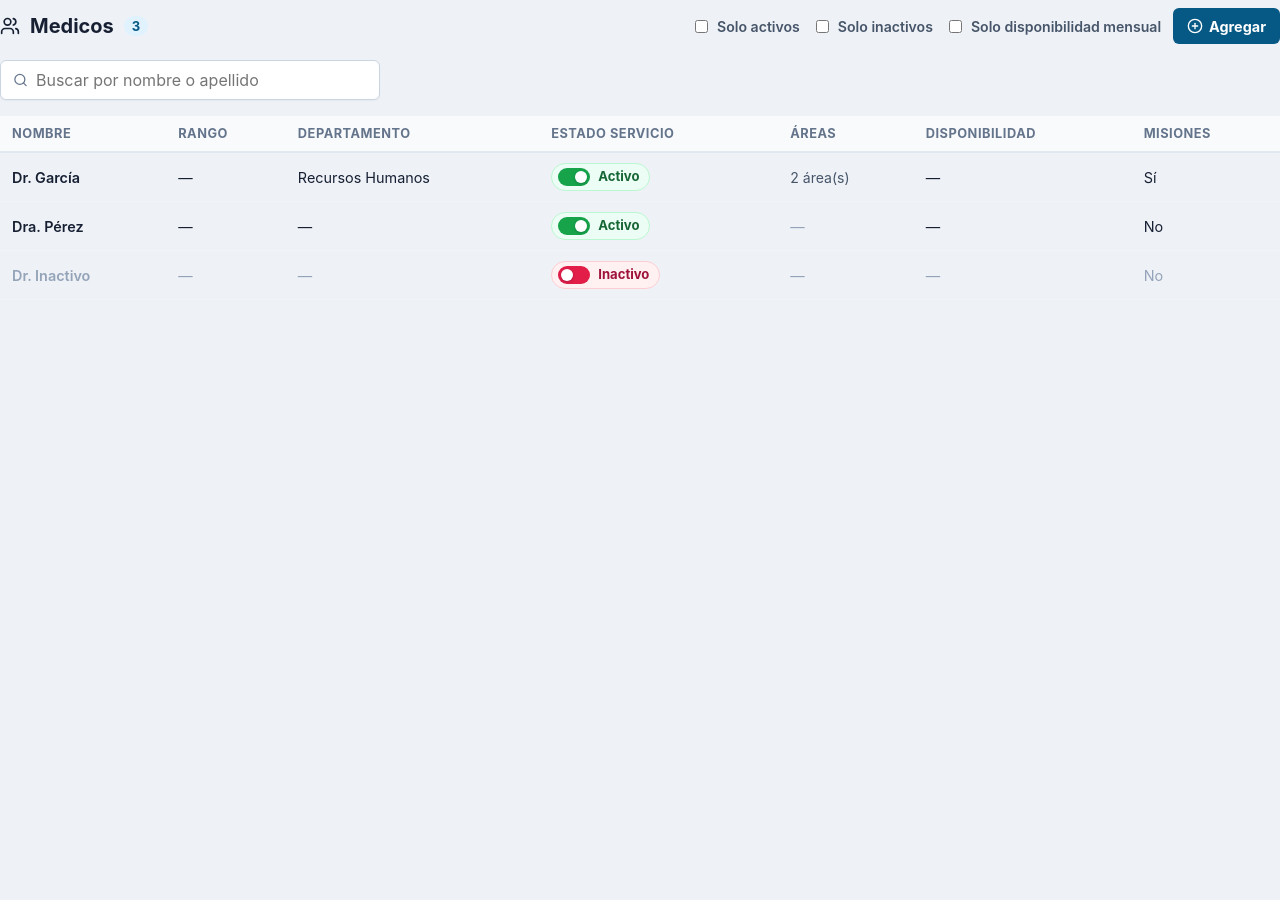
it: DoctorList › abre el perfil del médico desde la fila
Click the text "Dr. García". click: (83, 177)
box: [0, 152, 166, 202]
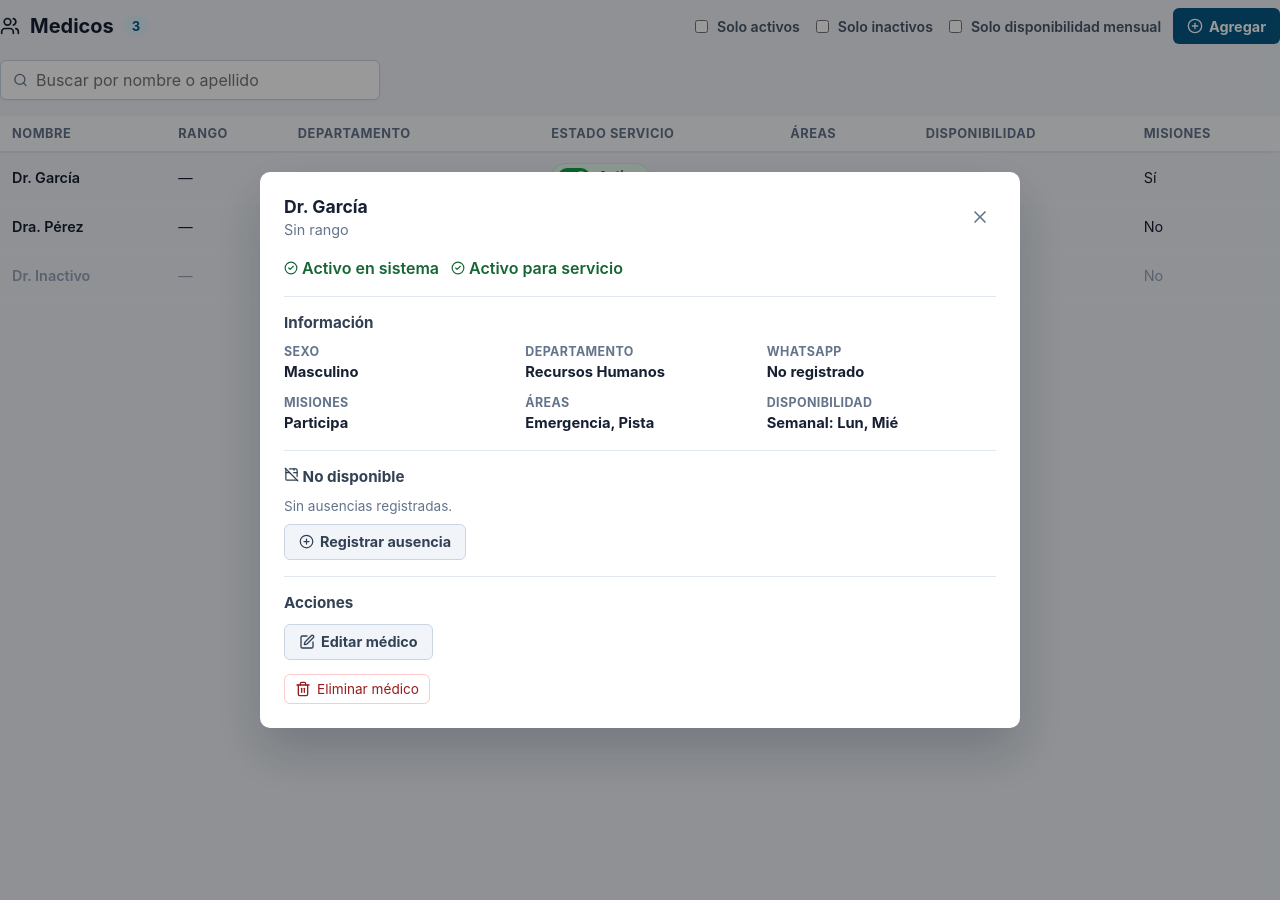
Expected: the text "Activo en sistema" is shown, [284, 258, 439, 278]
Expected: the text "Activo para servicio" is shown, [451, 258, 623, 278]
Expected: the button "Editar médico" is shown, [284, 624, 433, 660]
